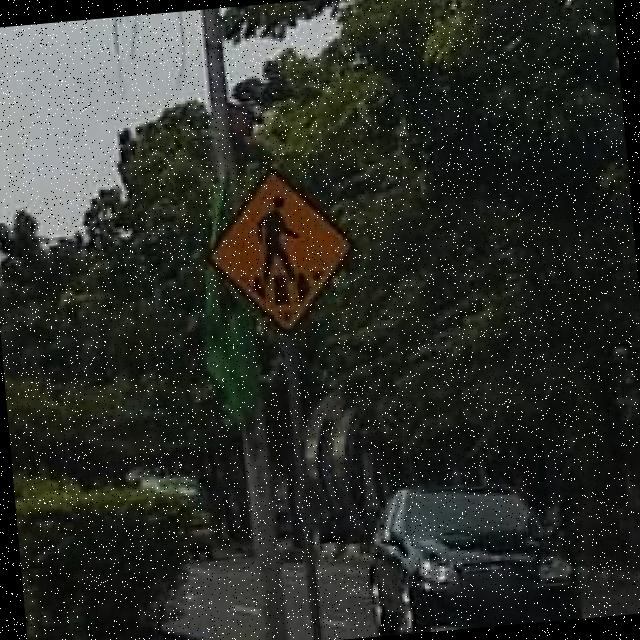Przejscie dla pieszych: (203, 162, 357, 332)
